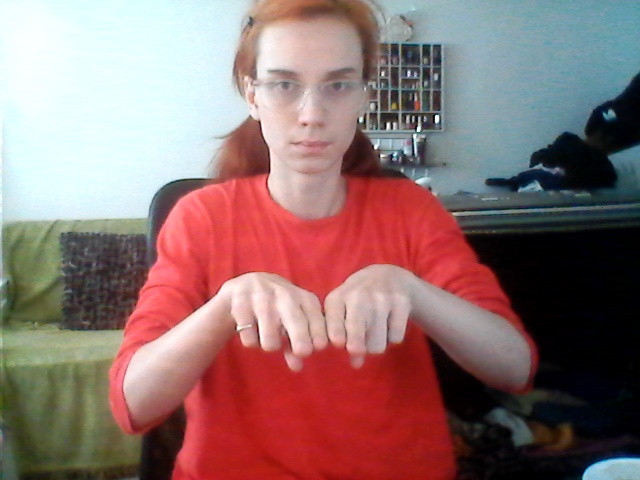brat: (225, 265, 419, 388)
